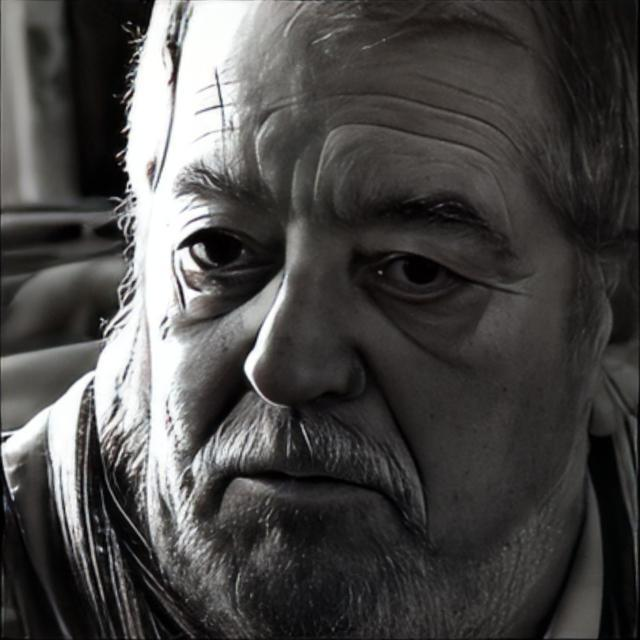sad: (144, 15, 586, 604)
